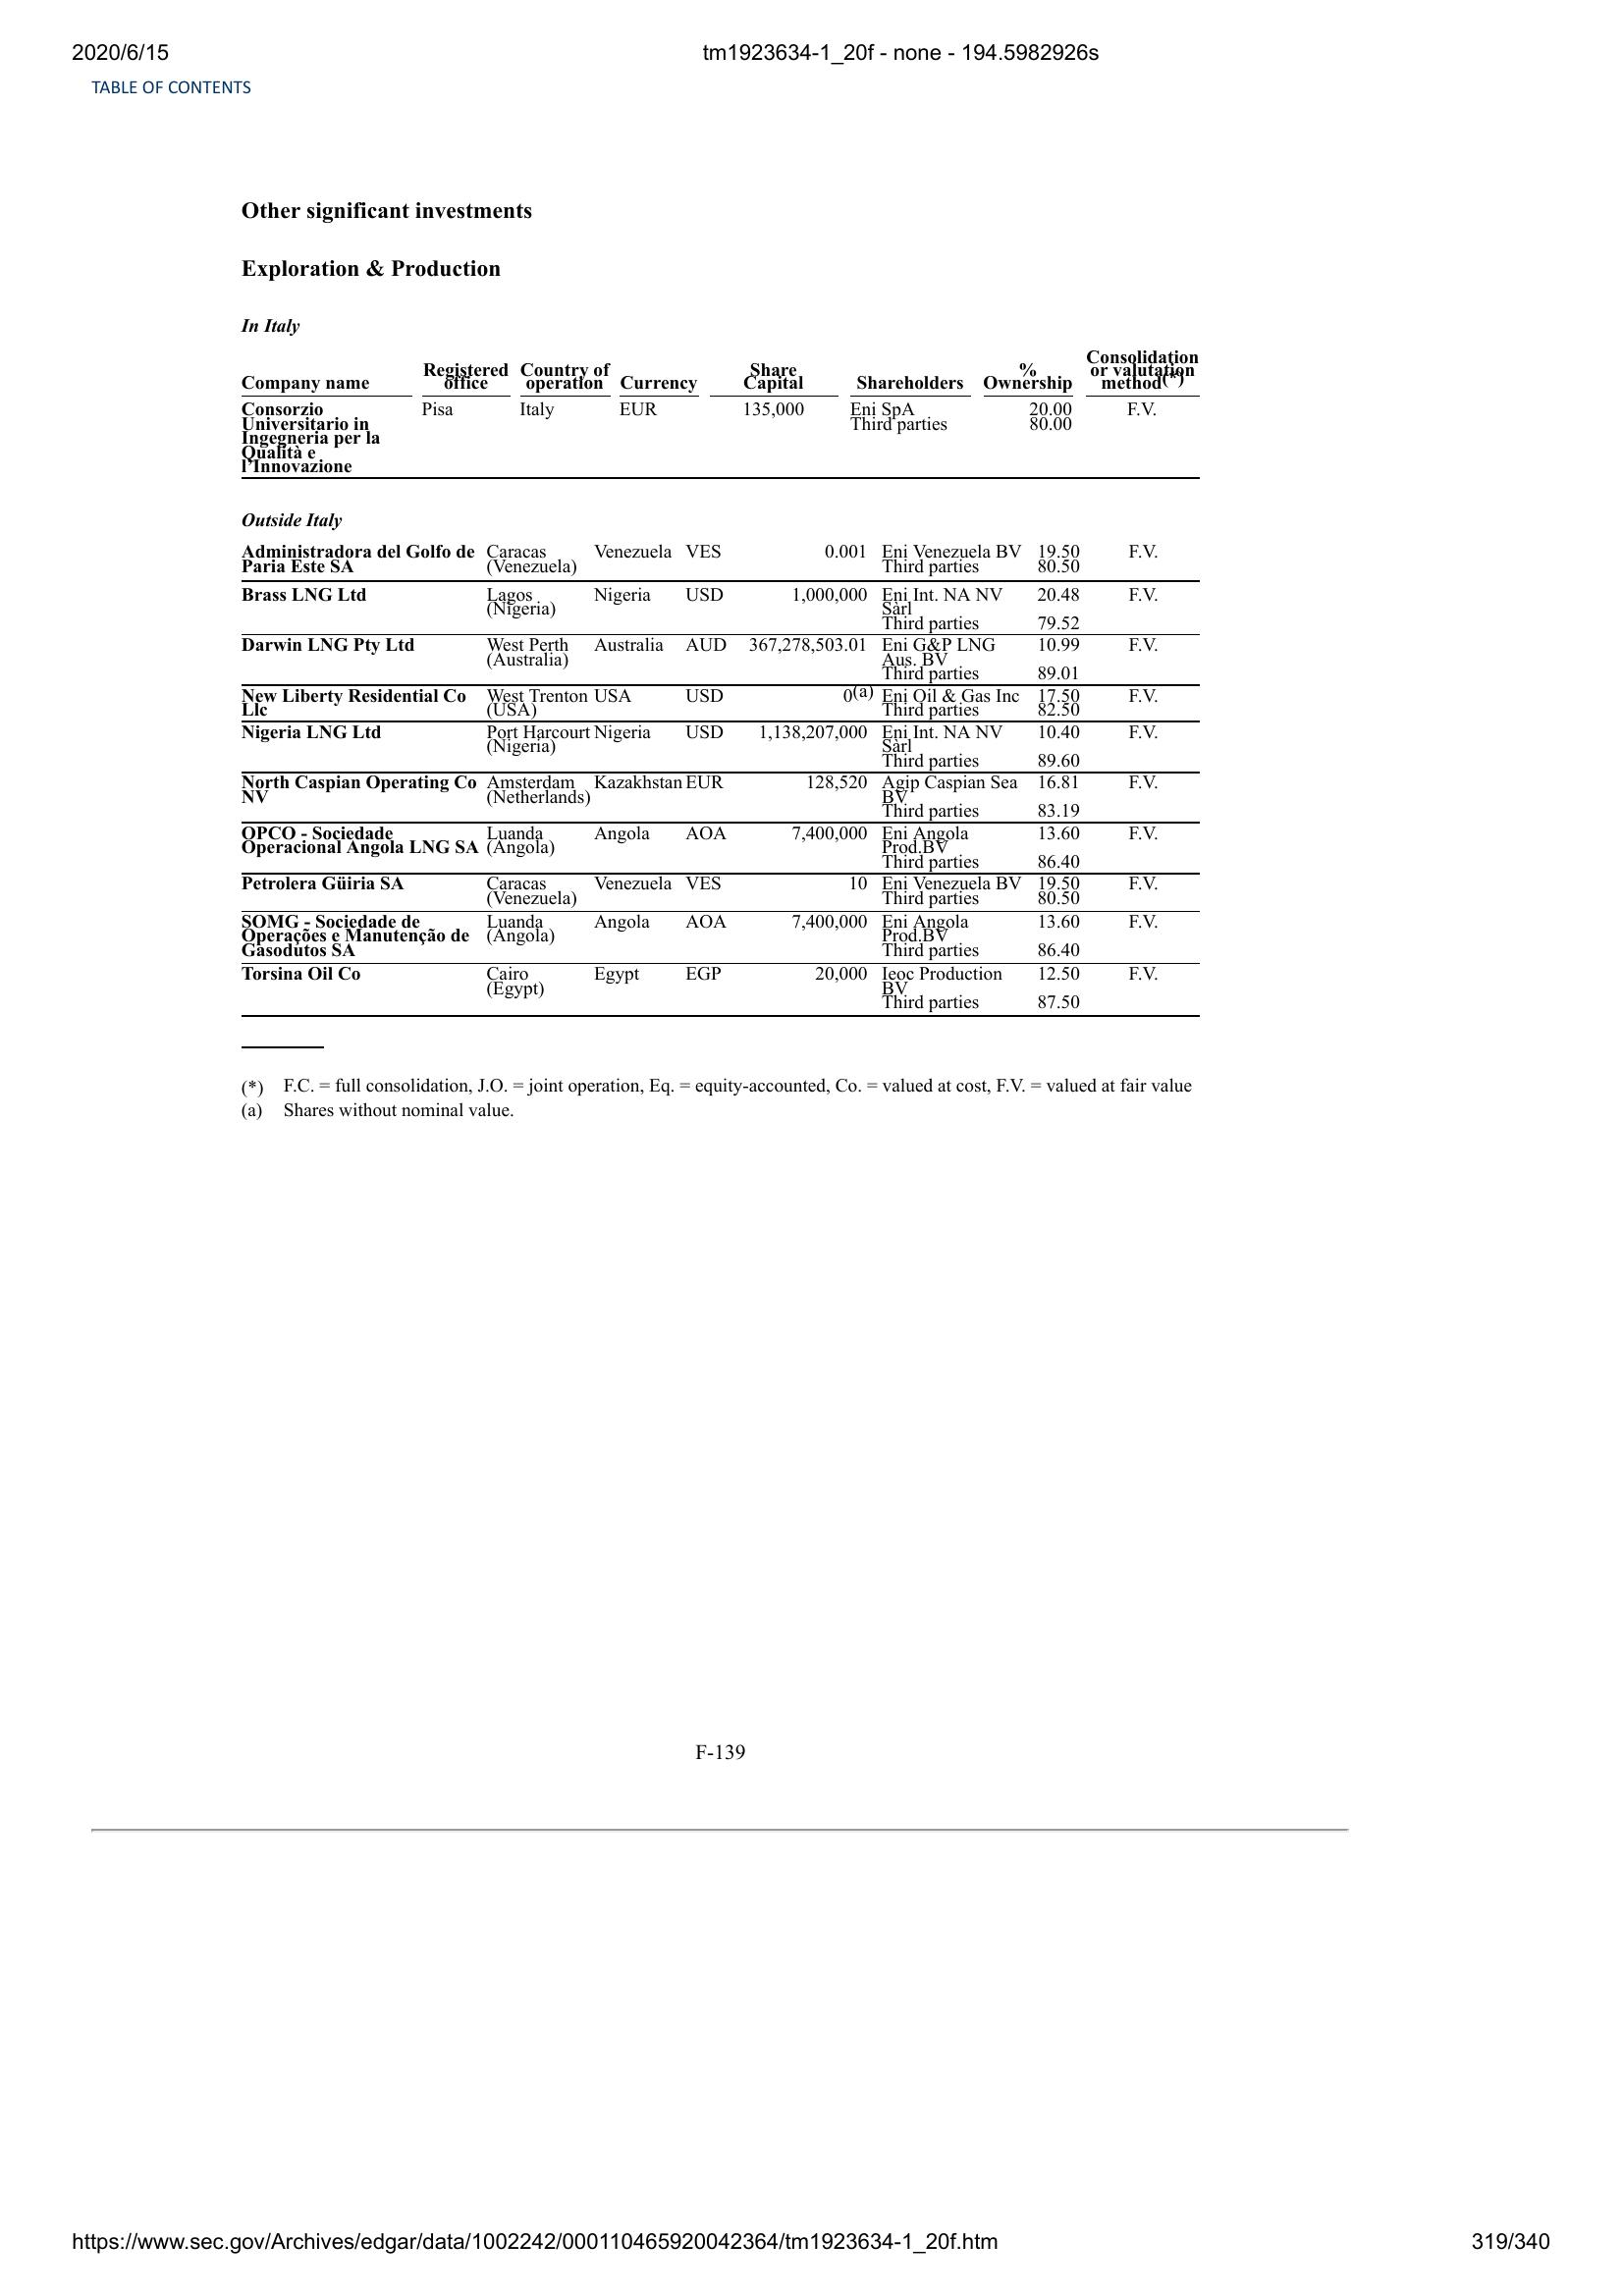table: (235, 346, 1214, 1034)
